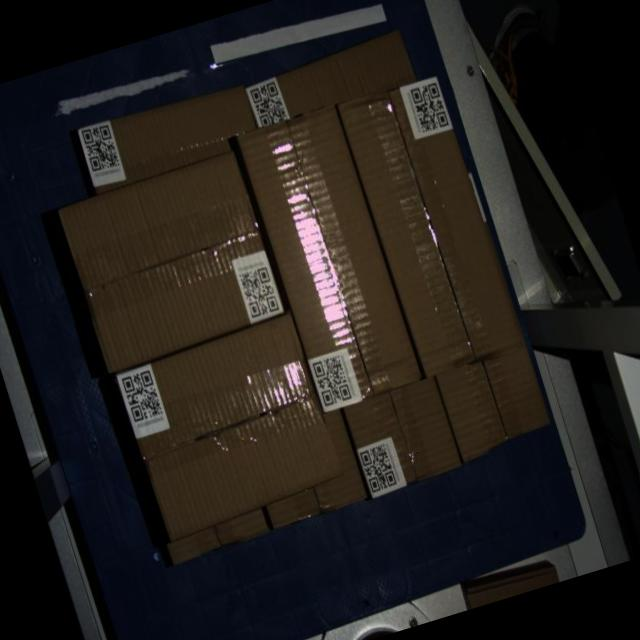box: (236, 103, 424, 414), (338, 73, 525, 379), (112, 312, 348, 542), (56, 149, 288, 374)
